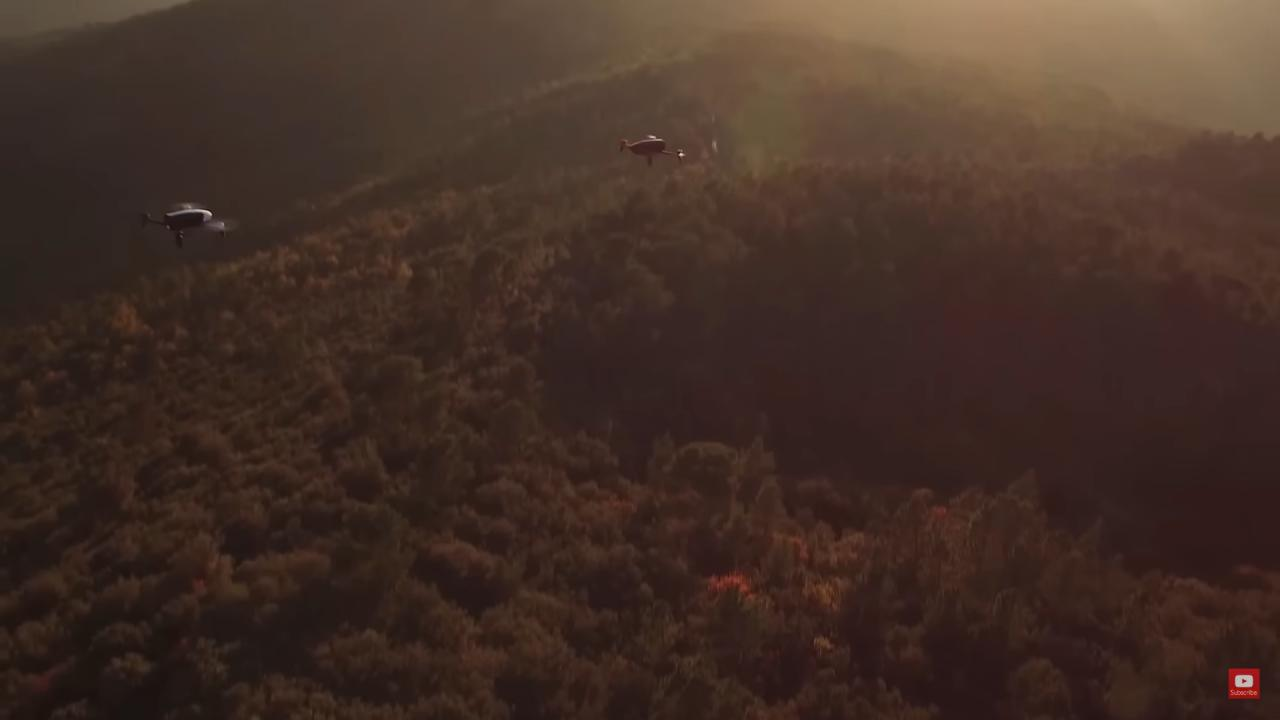Drone: (130, 190, 247, 260), (611, 123, 696, 176)
